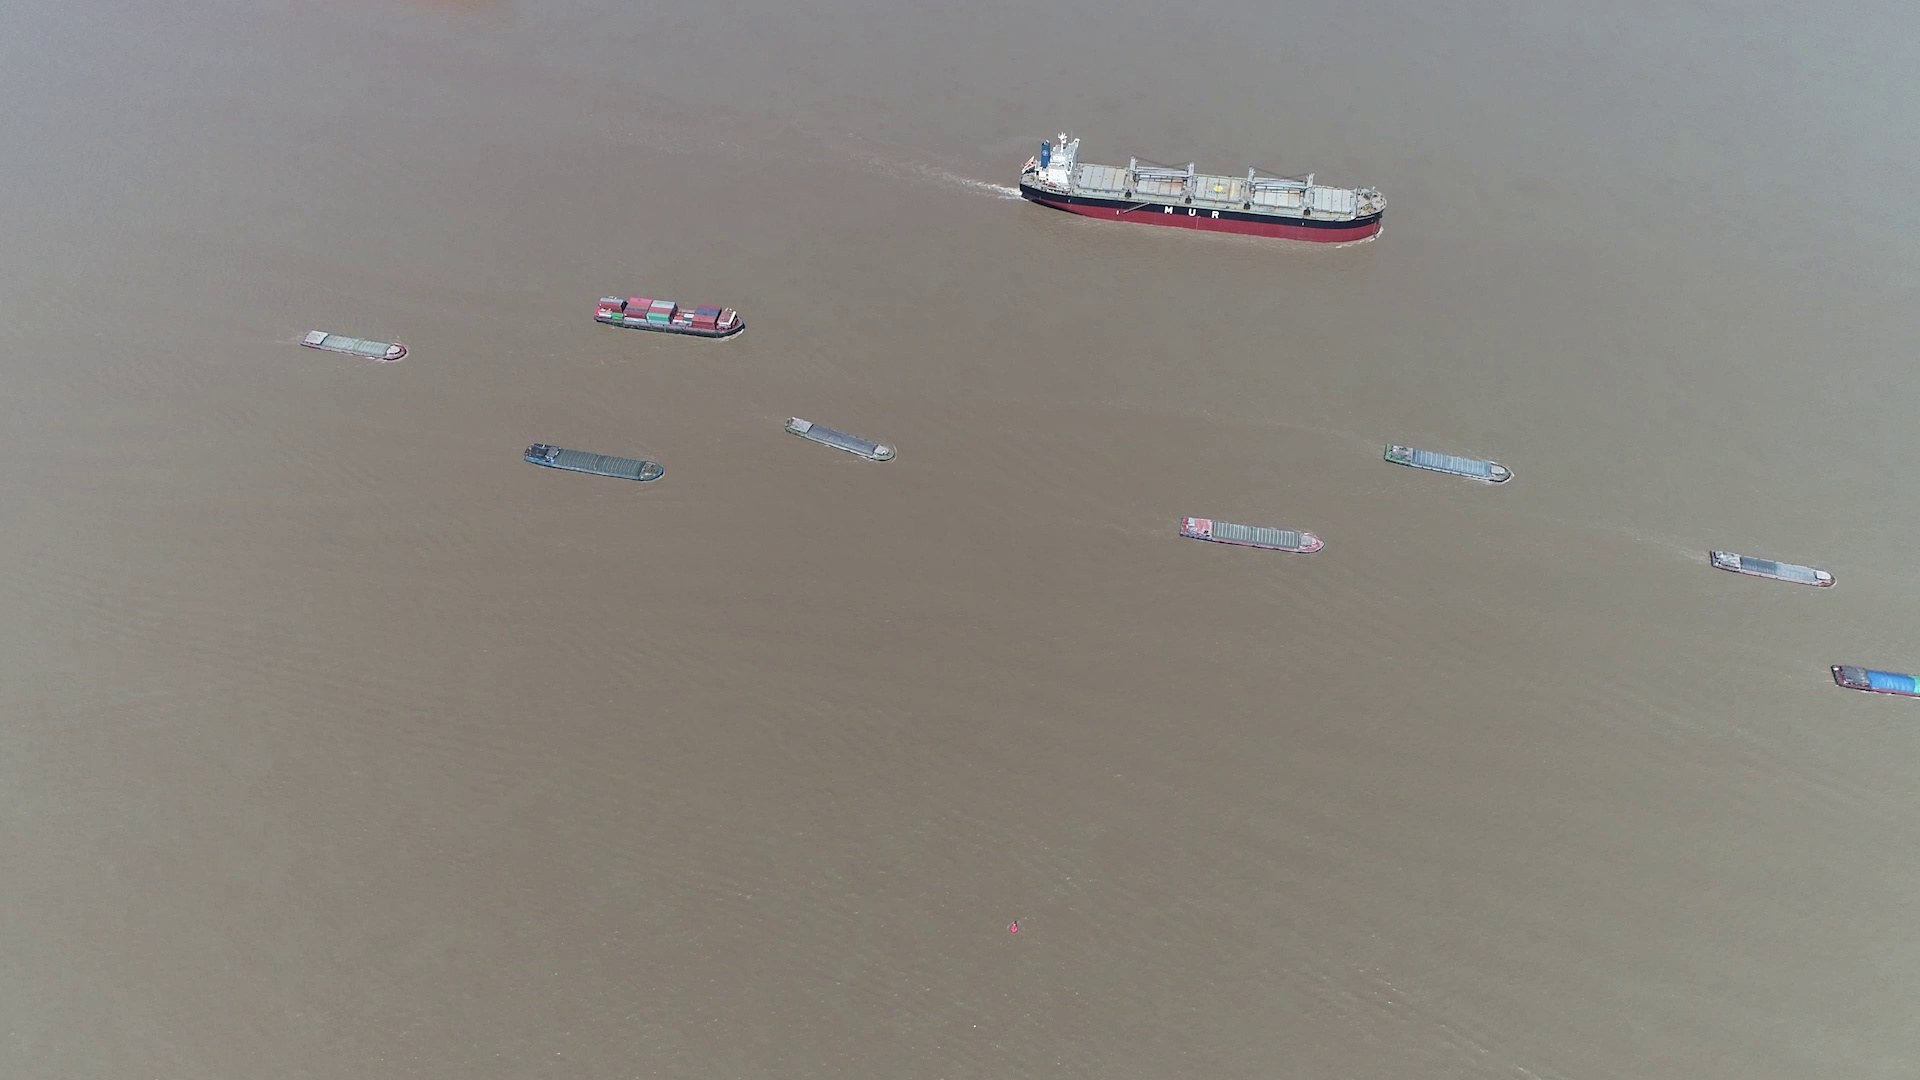ship: (1022, 138, 1387, 241), (593, 295, 746, 338), (1382, 443, 1513, 487), (1179, 516, 1323, 554), (524, 444, 665, 483), (785, 415, 895, 462), (1709, 549, 1833, 588), (298, 327, 406, 363), (1832, 663, 1919, 699)
